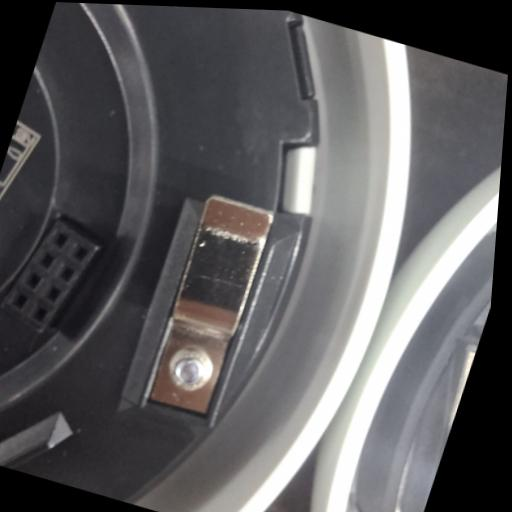yaysiz: (137, 190, 281, 425)
